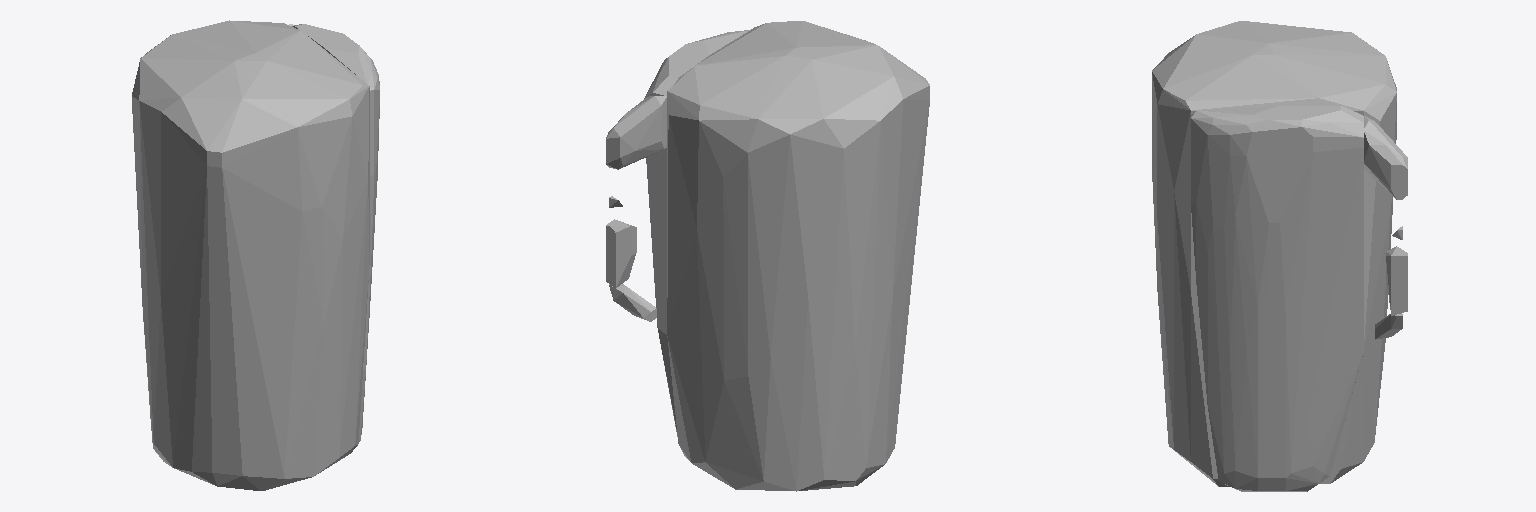
The robot description file, URDF, robot "root":
<robot name="root">
  <link name="link_ycb~019_pitcher_base_convex_piece_0">
    <inertial>
      <origin xyz="0 0 0" rpy="0 0 0"/>
      <mass value="3.36E-02"/>
      <inertia ixx="3.63E-04" ixy="-1.20E-04" ixz="-1.65E-04" iyy="3.56E-04" iyz="-1.69E-04" izz="2.42E-04"/>
    </inertial>
    <visual>
      <origin xyz="0 0 0" rpy="0 0 0"/>
      <geometry>
        <mesh filename="ycb~019_pitcher_base_convex_piece_0.obj" scale="1.0000E+00 1.0000E+00 1.0000E+00"/>
      </geometry>
      <material name="">
        <color rgba="7.50E-01 7.50E-01 7.50E-01 1"/>
      </material>
    </visual>
    <collision>
      <origin xyz="0 0 0" rpy="0 0 0"/>
      <geometry>
        <mesh filename="ycb~019_pitcher_base_convex_piece_0.obj" scale="1.0000E+00 1.0000E+00 1.0000E+00"/>
      </geometry>
    </collision>
  </link>
  <link name="link_ycb~019_pitcher_base_convex_piece_1">
    <inertial>
      <origin xyz="0 0 0" rpy="0 0 0"/>
      <mass value="2.59E-04"/>
      <inertia ixx="1.73E-06" ixy="-1.22E-06" ixz="-7.72E-07" iyy="1.70E-06" iyz="-7.84E-07" izz="2.44E-06"/>
    </inertial>
    <visual>
      <origin xyz="0 0 0" rpy="0 0 0"/>
      <geometry>
        <mesh filename="ycb~019_pitcher_base_convex_piece_1.obj" scale="1.0000E+00 1.0000E+00 1.0000E+00"/>
      </geometry>
      <material name="">
        <color rgba="7.50E-01 7.50E-01 7.50E-01 1"/>
      </material>
    </visual>
    <collision>
      <origin xyz="0 0 0" rpy="0 0 0"/>
      <geometry>
        <mesh filename="ycb~019_pitcher_base_convex_piece_1.obj" scale="1.0000E+00 1.0000E+00 1.0000E+00"/>
      </geometry>
    </collision>
  </link>
  <joint name="link_ycb~019_pitcher_base_convex_piece_1_joint" type="fixed">
    <origin xyz="0 0 0" rpy="0 0 0"/>
    <parent link="link_ycb~019_pitcher_base_convex_piece_0"/>
    <child link="link_ycb~019_pitcher_base_convex_piece_1"/>
  </joint>
  <link name="link_ycb~019_pitcher_base_convex_piece_2">
    <inertial>
      <origin xyz="0 0 0" rpy="0 0 0"/>
      <mass value="1.29E-02"/>
      <inertia ixx="6.39E-05" ixy="-5.75E-05" ixz="-1.20E-05" iyy="5.92E-05" iyz="-1.26E-05" izz="1.15E-04"/>
    </inertial>
    <visual>
      <origin xyz="0 0 0" rpy="0 0 0"/>
      <geometry>
        <mesh filename="ycb~019_pitcher_base_convex_piece_2.obj" scale="1.0000E+00 1.0000E+00 1.0000E+00"/>
      </geometry>
      <material name="">
        <color rgba="7.50E-01 7.50E-01 7.50E-01 1"/>
      </material>
    </visual>
    <collision>
      <origin xyz="0 0 0" rpy="0 0 0"/>
      <geometry>
        <mesh filename="ycb~019_pitcher_base_convex_piece_2.obj" scale="1.0000E+00 1.0000E+00 1.0000E+00"/>
      </geometry>
    </collision>
  </link>
  <joint name="link_ycb~019_pitcher_base_convex_piece_2_joint" type="fixed">
    <origin xyz="0 0 0" rpy="0 0 0"/>
    <parent link="link_ycb~019_pitcher_base_convex_piece_1"/>
    <child link="link_ycb~019_pitcher_base_convex_piece_2"/>
  </joint>
  <link name="link_ycb~019_pitcher_base_convex_piece_3">
    <inertial>
      <origin xyz="0 0 0" rpy="0 0 0"/>
      <mass value="6.05E-03"/>
      <inertia ixx="2.65E-05" ixy="-2.29E-05" ixz="5.83E-06" iyy="2.32E-05" iyz="6.33E-06" izz="4.60E-05"/>
    </inertial>
    <visual>
      <origin xyz="0 0 0" rpy="0 0 0"/>
      <geometry>
        <mesh filename="ycb~019_pitcher_base_convex_piece_3.obj" scale="1.0000E+00 1.0000E+00 1.0000E+00"/>
      </geometry>
      <material name="">
        <color rgba="7.50E-01 7.50E-01 7.50E-01 1"/>
      </material>
    </visual>
    <collision>
      <origin xyz="0 0 0" rpy="0 0 0"/>
      <geometry>
        <mesh filename="ycb~019_pitcher_base_convex_piece_3.obj" scale="1.0000E+00 1.0000E+00 1.0000E+00"/>
      </geometry>
    </collision>
  </link>
  <joint name="link_ycb~019_pitcher_base_convex_piece_3_joint" type="fixed">
    <origin xyz="0 0 0" rpy="0 0 0"/>
    <parent link="link_ycb~019_pitcher_base_convex_piece_2"/>
    <child link="link_ycb~019_pitcher_base_convex_piece_3"/>
  </joint>
  <link name="link_ycb~019_pitcher_base_convex_piece_4">
    <inertial>
      <origin xyz="0 0 0" rpy="0 0 0"/>
      <mass value="9.62E-01"/>
      <inertia ixx="4.40E-03" ixy="-2.15E-04" ixz="-8.32E-04" iyy="6.73E-03" iyz="-1.08E-04" izz="3.36E-03"/>
    </inertial>
    <visual>
      <origin xyz="0 0 0" rpy="0 0 0"/>
      <geometry>
        <mesh filename="ycb~019_pitcher_base_convex_piece_4.obj" scale="1.0000E+00 1.0000E+00 1.0000E+00"/>
      </geometry>
      <material name="">
        <color rgba="7.50E-01 7.50E-01 7.50E-01 1"/>
      </material>
    </visual>
    <collision>
      <origin xyz="0 0 0" rpy="0 0 0"/>
      <geometry>
        <mesh filename="ycb~019_pitcher_base_convex_piece_4.obj" scale="1.0000E+00 1.0000E+00 1.0000E+00"/>
      </geometry>
    </collision>
  </link>
  <joint name="link_ycb~019_pitcher_base_convex_piece_4_joint" type="fixed">
    <origin xyz="0 0 0" rpy="0 0 0"/>
    <parent link="link_ycb~019_pitcher_base_convex_piece_3"/>
    <child link="link_ycb~019_pitcher_base_convex_piece_4"/>
  </joint>
  <link name="link_ycb~019_pitcher_base_convex_piece_5">
    <inertial>
      <origin xyz="0 0 0" rpy="0 0 0"/>
      <mass value="9.50E+00"/>
      <inertia ixx="5.31E-02" ixy="-5.12E-04" ixz="8.65E-04" iyy="5.10E-02" iyz="5.96E-05" izz="1.88E-02"/>
    </inertial>
    <visual>
      <origin xyz="0 0 0" rpy="0 0 0"/>
      <geometry>
        <mesh filename="ycb~019_pitcher_base_convex_piece_5.obj" scale="1.0000E+00 1.0000E+00 1.0000E+00"/>
      </geometry>
      <material name="">
        <color rgba="7.50E-01 7.50E-01 7.50E-01 1"/>
      </material>
    </visual>
    <collision>
      <origin xyz="0 0 0" rpy="0 0 0"/>
      <geometry>
        <mesh filename="ycb~019_pitcher_base_convex_piece_5.obj" scale="1.0000E+00 1.0000E+00 1.0000E+00"/>
      </geometry>
    </collision>
  </link>
  <joint name="link_ycb~019_pitcher_base_convex_piece_5_joint" type="fixed">
    <origin xyz="0 0 0" rpy="0 0 0"/>
    <parent link="link_ycb~019_pitcher_base_convex_piece_4"/>
    <child link="link_ycb~019_pitcher_base_convex_piece_5"/>
  </joint>
</robot>

--- Render facts (derived) ---
3 views of the same robot in one strip: view 1: azimuth 30°, elevation 25°; view 2: azimuth 150°, elevation 25°; view 3: azimuth 270°, elevation 25° (orthographic).
Model root with 6 links and 5 joints (5 fixed), rooted at link_ycb~019_pitcher_base_convex_piece_0, posed all joints at 0.
Links seen in each view (by area): view 1: link_ycb~019_pitcher_base_convex_piece_5, link_ycb~019_pitcher_base_convex_piece_4; view 2: link_ycb~019_pitcher_base_convex_piece_5, link_ycb~019_pitcher_base_convex_piece_4, link_ycb~019_pitcher_base_convex_piece_0, link_ycb~019_pitcher_base_convex_piece_2, link_ycb~019_pitcher_base_convex_piece_3; view 3: link_ycb~019_pitcher_base_convex_piece_4, link_ycb~019_pitcher_base_convex_piece_5, link_ycb~019_pitcher_base_convex_piece_0, link_ycb~019_pitcher_base_convex_piece_2, link_ycb~019_pitcher_base_convex_piece_3.
Boxes of the visible links, bbox=[...] form: link_ycb~019_pitcher_base_convex_piece_5: bbox=[132, 20, 369, 490]; link_ycb~019_pitcher_base_convex_piece_4: bbox=[292, 24, 379, 441]; link_ycb~019_pitcher_base_convex_piece_5: bbox=[667, 21, 929, 491]; link_ycb~019_pitcher_base_convex_piece_4: bbox=[644, 30, 749, 436]; link_ycb~019_pitcher_base_convex_piece_0: bbox=[606, 96, 666, 169]; link_ycb~019_pitcher_base_convex_piece_2: bbox=[606, 219, 636, 288]; link_ycb~019_pitcher_base_convex_piece_3: bbox=[609, 284, 656, 321]; link_ycb~019_pitcher_base_convex_piece_4: bbox=[1191, 106, 1363, 491]; link_ycb~019_pitcher_base_convex_piece_5: bbox=[1152, 21, 1396, 486]; link_ycb~019_pitcher_base_convex_piece_0: bbox=[1364, 116, 1407, 199]; link_ycb~019_pitcher_base_convex_piece_2: bbox=[1386, 246, 1407, 315]; link_ycb~019_pitcher_base_convex_piece_3: bbox=[1375, 313, 1402, 339].
Bounding box of the posed robot: 0.138 × 0.1411 × 0.2423 m (x, y, z).
6 mesh visuals loaded from 6 distinct referenced files (6 OBJ).